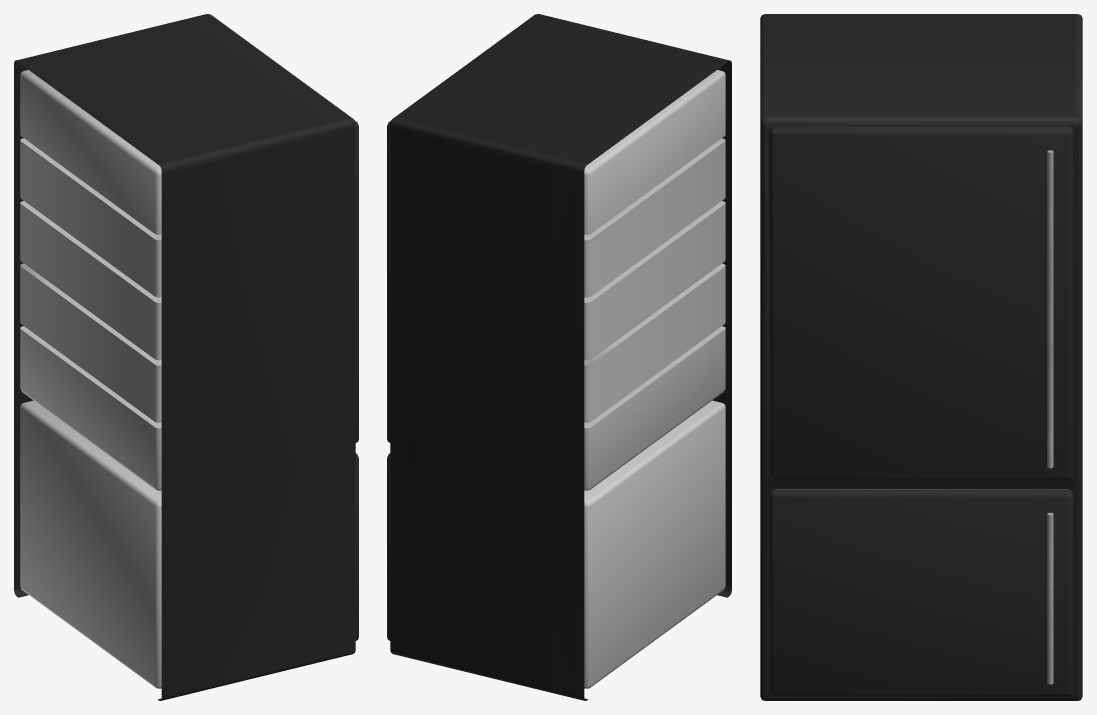
Rendered from Fridge.fbx.
3 views of the same model, side by side, from view 1: azimuth 30°, elevation 25°; view 2: azimuth 150°, elevation 25°; view 3: azimuth 270°, elevation 25° (orthographic). The views are drawn at different scales.
Visible parts, largest first — view 1: Fridge, FridgeTopDoor, FridgeBottomDoor; view 2: Fridge, FridgeTopDoor, FridgeBottomDoor; view 3: FridgeTopDoor, FridgeBottomDoor, Fridge.
Part boxes in pixels (left/top/right/bottom): Fridge: left=14, top=14, right=355, bottom=700; FridgeTopDoor: left=354, top=120, right=358, bottom=442; FridgeBottomDoor: left=355, top=453, right=358, bottom=640; Fridge: left=390, top=14, right=731, bottom=700; FridgeTopDoor: left=387, top=120, right=391, bottom=442; FridgeBottomDoor: left=387, top=453, right=390, bottom=640; FridgeTopDoor: left=770, top=127, right=1072, bottom=479; FridgeBottomDoor: left=770, top=489, right=1072, bottom=696; Fridge: left=760, top=14, right=1082, bottom=700.
Size of the model in its own units: 100 by 200 by 82.5.
Materials: 1 (1 with a texture image).
